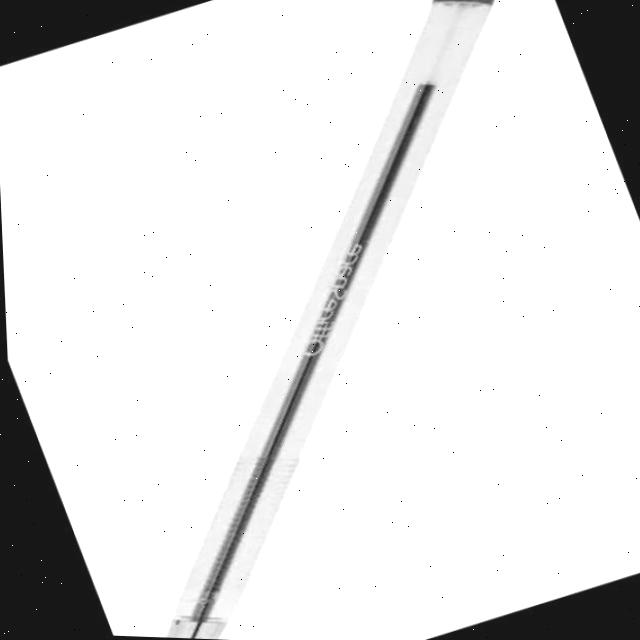pencil: (162, 0, 502, 640)
